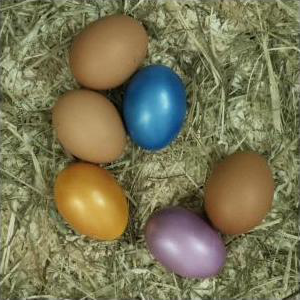egg: (54, 164, 130, 241), (144, 209, 226, 279), (204, 153, 274, 233), (53, 90, 128, 164), (123, 65, 187, 151), (71, 17, 147, 89)
